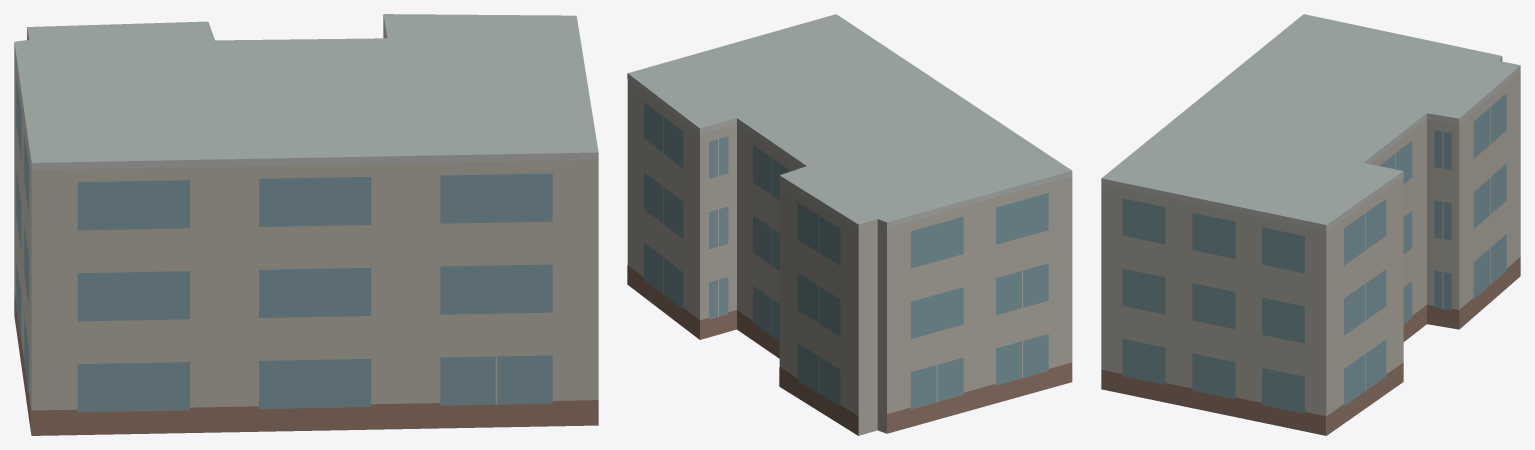
The model's file is survey-upis-32560316.glb.
The picture shows the model from 3 angles, left to right: view 1: azimuth 30°, elevation 25°; view 2: azimuth 150°, elevation 25°; view 3: azimuth 270°, elevation 25°; orthographic projection. The views are drawn at different scales.
Visible parts, largest first — view 1: survey-upis-32560316.tmp; view 2: survey-upis-32560316.tmp; view 3: survey-upis-32560316.tmp.
Part boxes in pixels (x1,y1,x2,y2): survey-upis-32560316.tmp: (14, 14, 598, 435); survey-upis-32560316.tmp: (627, 14, 1072, 435); survey-upis-32560316.tmp: (1101, 14, 1520, 435).
Size of the model in its own units: 19.65 by 9.15 by 16.5.
